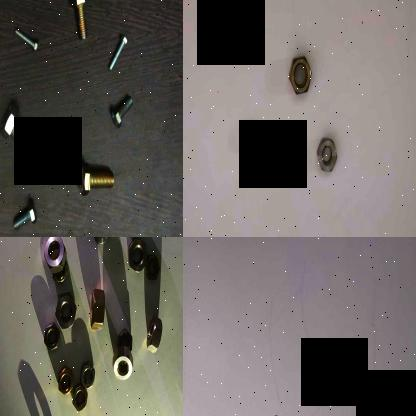Bolts: (0, 88, 34, 164), (76, 156, 115, 197), (8, 194, 38, 232), (109, 88, 135, 130), (67, 0, 91, 45), (13, 20, 40, 56), (107, 30, 127, 76)
NUTS: (286, 51, 314, 96), (87, 282, 107, 332), (314, 134, 338, 174), (52, 289, 76, 329), (40, 237, 66, 273), (139, 249, 163, 286), (125, 237, 147, 277), (110, 346, 133, 381), (48, 256, 73, 286), (144, 314, 162, 354), (55, 364, 73, 398), (240, 121, 256, 156), (43, 320, 61, 351), (69, 383, 87, 413), (116, 324, 134, 352), (78, 362, 95, 390), (89, 237, 113, 246)
